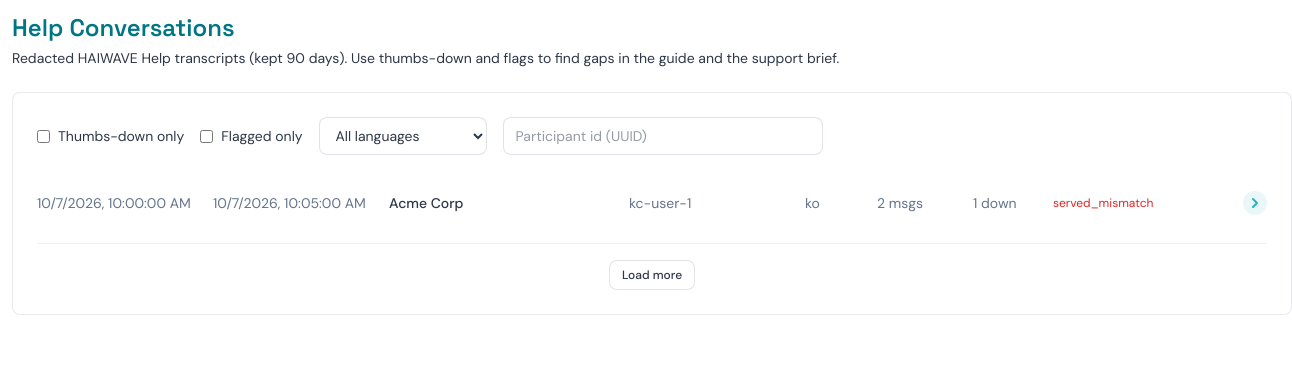
AdminHelpPage › a second Load more reads the cursor the first one returned
expect the text "Acme Corp" is shown: met, box [389,194,464,212]
Click the button "Load more": (652, 275) [609,260,695,290]
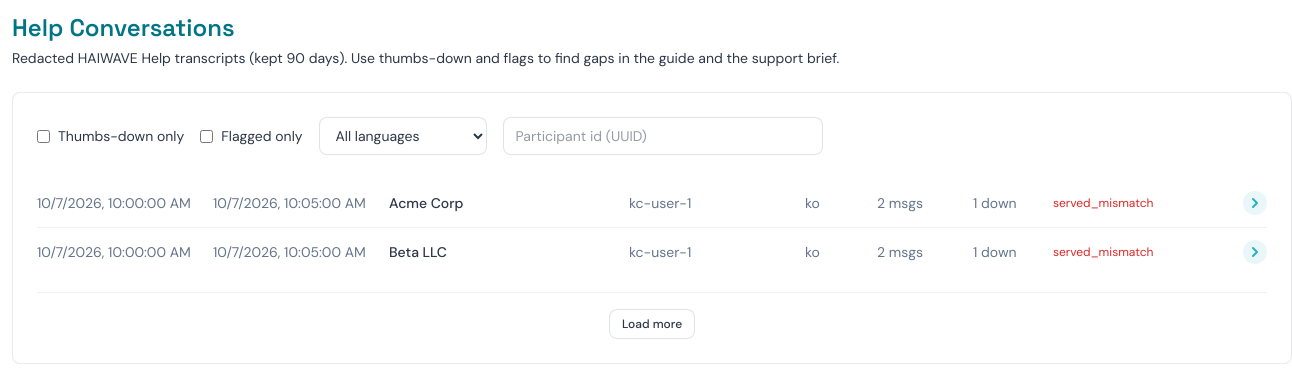
expect the text "Beta LLC" is shown: met, box [389,243,447,261]
Click the button "Load more": (652, 324) [609,309,695,339]
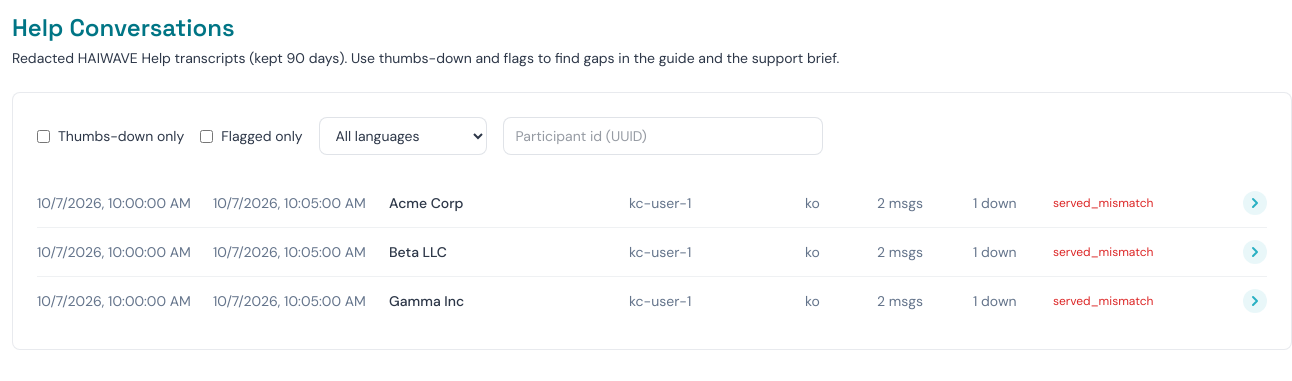
expect the text "Gamma Inc" is shown: met, box [389,292,464,310]
